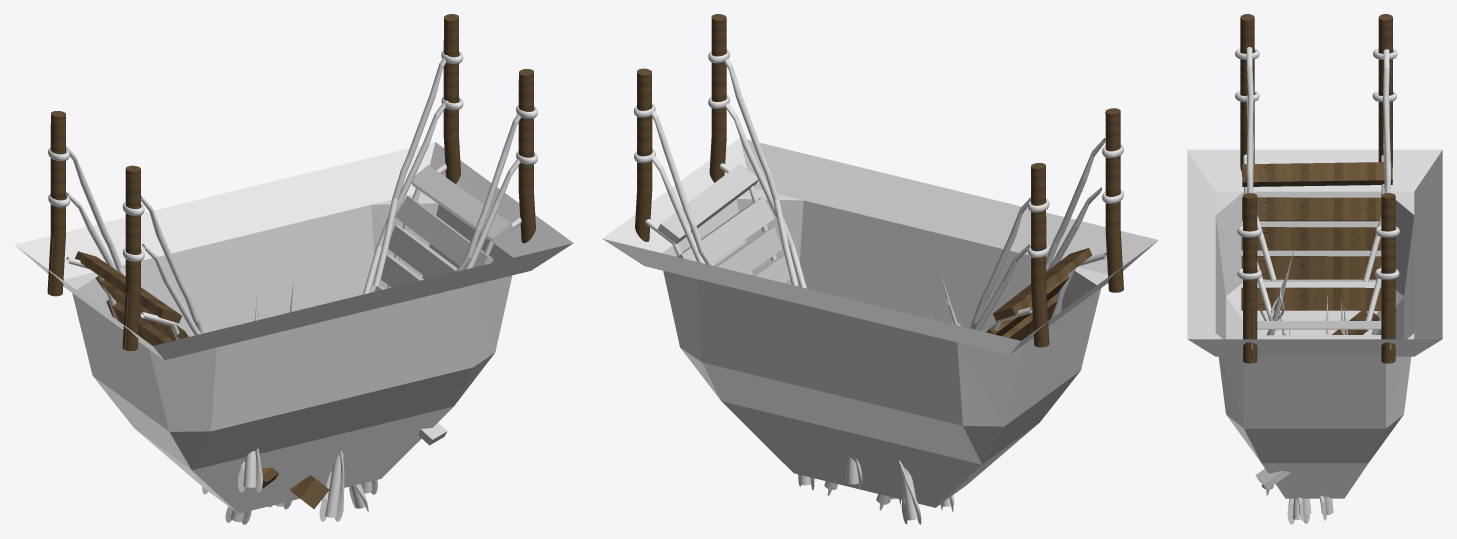
Rendered from BridgeFallen.dae.
The picture shows the model from 3 angles, left to right: view 1: azimuth 30°, elevation 25°; view 2: azimuth 150°, elevation 25°; view 3: azimuth 270°, elevation 25°; orthographic projection. The views are drawn at different scales.
Visible parts, largest first — view 1: Plane, Plane_003, Plane_007, Plane_019, Cube_001, Cube_002, Cube_003, Plane_016, Plane_013, Cube_004; view 2: Plane, Plane_003, Plane_007, Plane_019, Cube_001, Cube_002, Cube_003, Plane_017; view 3: Plane, Plane_019, Plane_003, Plane_007, Cube_001, Cube_002, Plane_013, Cube_006, Plane_009.
Part boxes in pixels (left/top/right/bottom): Plane: left=14, top=142, right=573, bottom=513; Plane_003: left=47, top=14, right=535, bottom=350; Plane_007: left=48, top=50, right=537, bottom=339; Plane_019: left=75, top=251, right=329, bottom=508; Cube_001: left=411, top=165, right=514, bottom=244; Cube_002: left=395, top=195, right=493, bottom=269; Cube_003: left=388, top=225, right=457, bottom=278; Plane_016: left=319, top=450, right=344, bottom=521; Plane_013: left=238, top=291, right=262, bottom=492; Cube_004: left=381, top=254, right=423, bottom=287; Plane: left=602, top=138, right=1158, bottom=507; Plane_003: left=635, top=14, right=1123, bottom=347; Plane_007: left=633, top=49, right=1123, bottom=330; Plane_019: left=986, top=248, right=1092, bottom=340; Cube_001: left=657, top=163, right=758, bottom=244; Cube_002: left=676, top=196, right=774, bottom=263; Cube_003: left=714, top=226, right=781, bottom=273; Plane_017: left=898, top=460, right=921, bottom=524; Plane: left=1187, top=149, right=1442, bottom=498; Plane_019: left=1241, top=162, right=1392, bottom=334; Plane_003: left=1240, top=14, right=1395, bottom=363; Plane_007: left=1235, top=47, right=1399, bottom=335; Cube_001: left=1257, top=320, right=1381, bottom=329; Cube_002: left=1257, top=335, right=1381, bottom=339; Plane_013: left=1266, top=247, right=1294, bottom=335; Cube_006: left=1255, top=469, right=1290, bottom=489; Plane_009: left=1287, top=498, right=1310, bottom=524.
Size of the model in its own units: 14.17 by 8.07 by 13.69.
